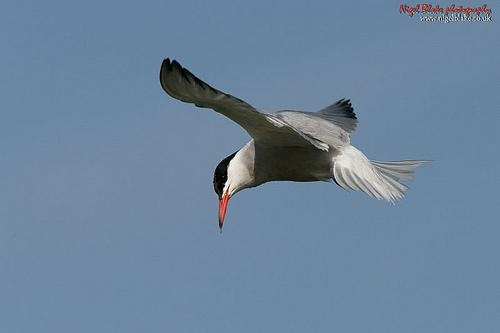bird: (157, 57, 433, 235)
